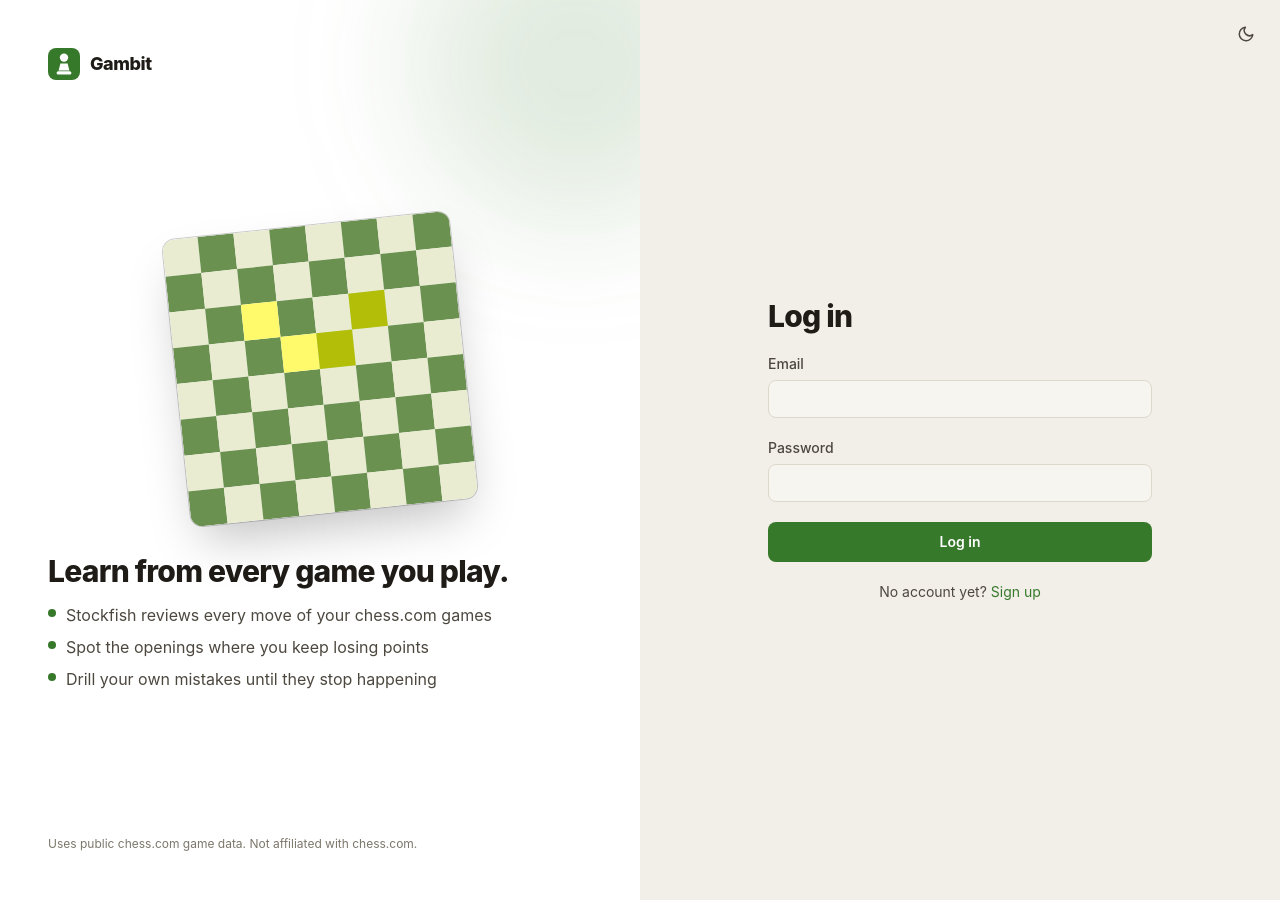
Scenario: login › shows the error message when login fails
Type "player@example.com" into the field labelled "Email" at (960, 399), box [768,380,1152,418]
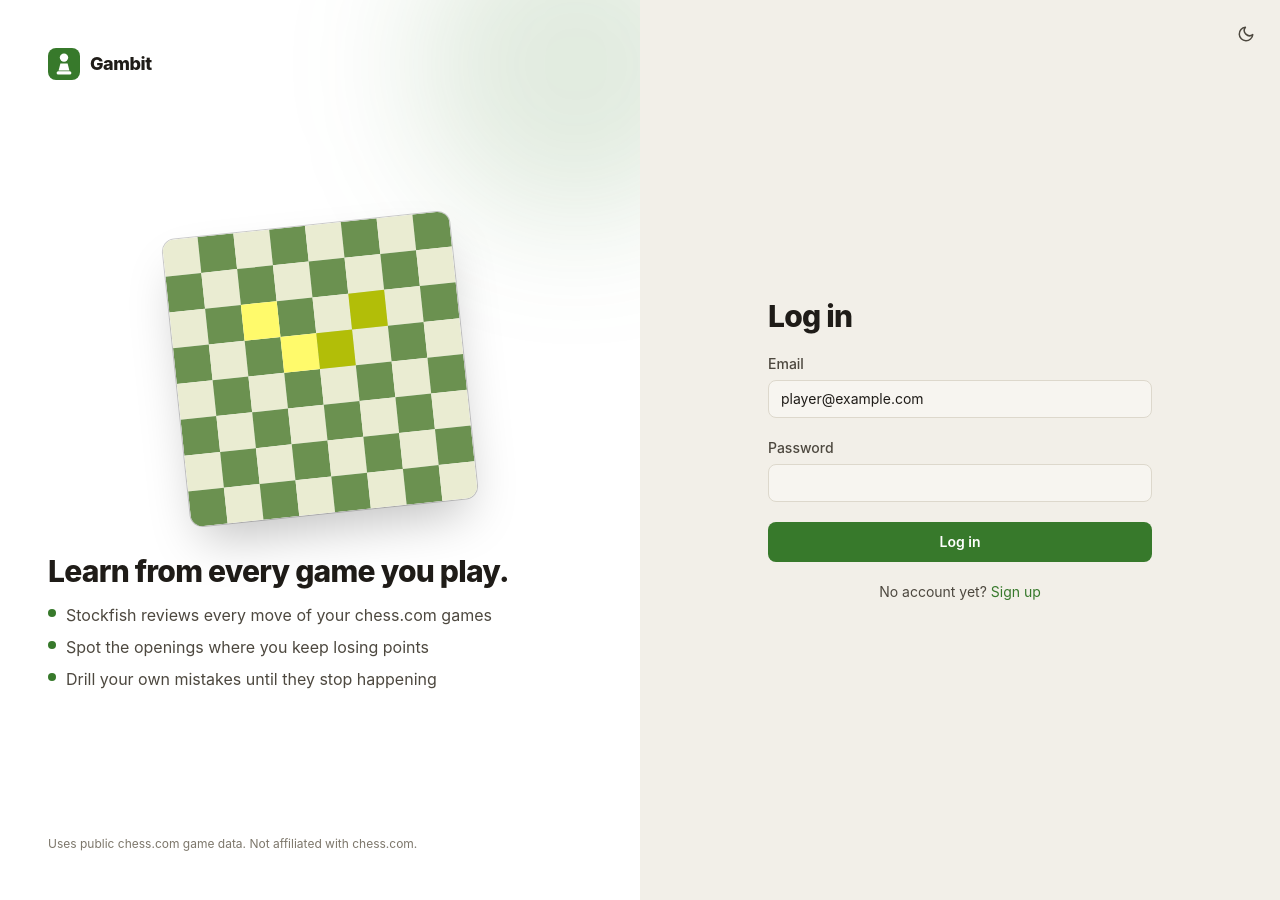
Type "wrong-password" into the password field labelled "Password" at (960, 483), box [768,464,1152,502]
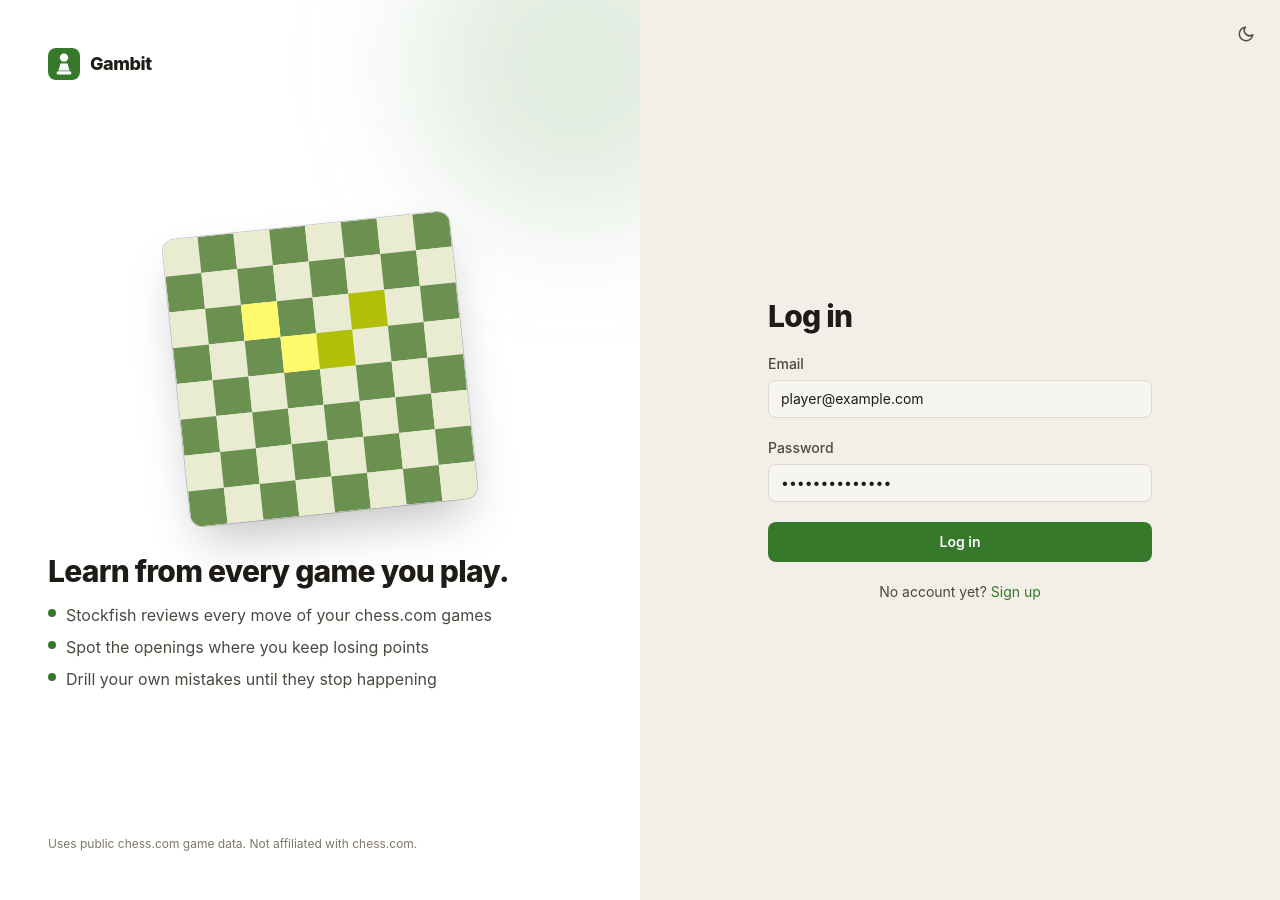
Click the button "Log in" at (960, 542), box [768,522,1152,562]
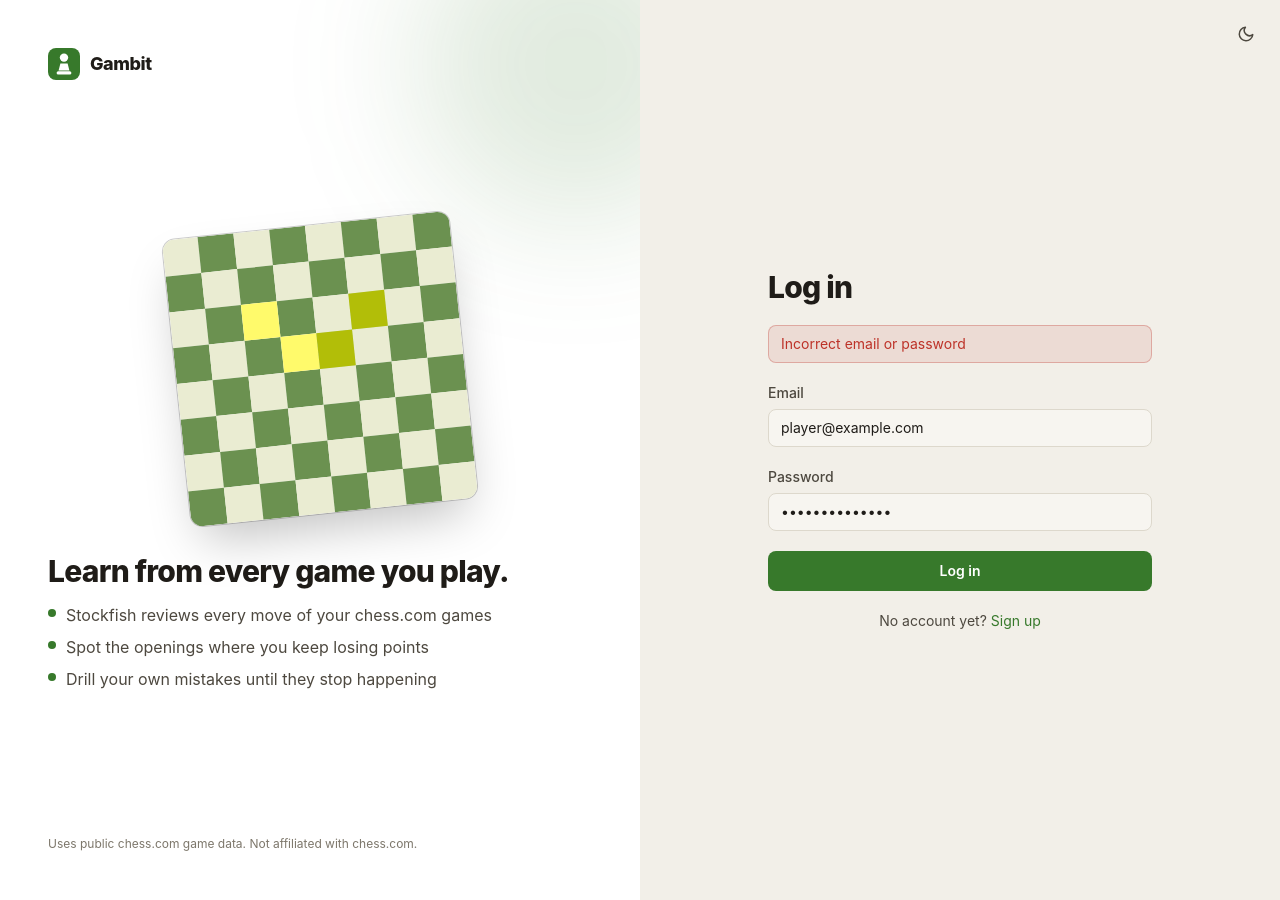
Expected: the message reads "Incorrect email or password", [781,335,966,352]
